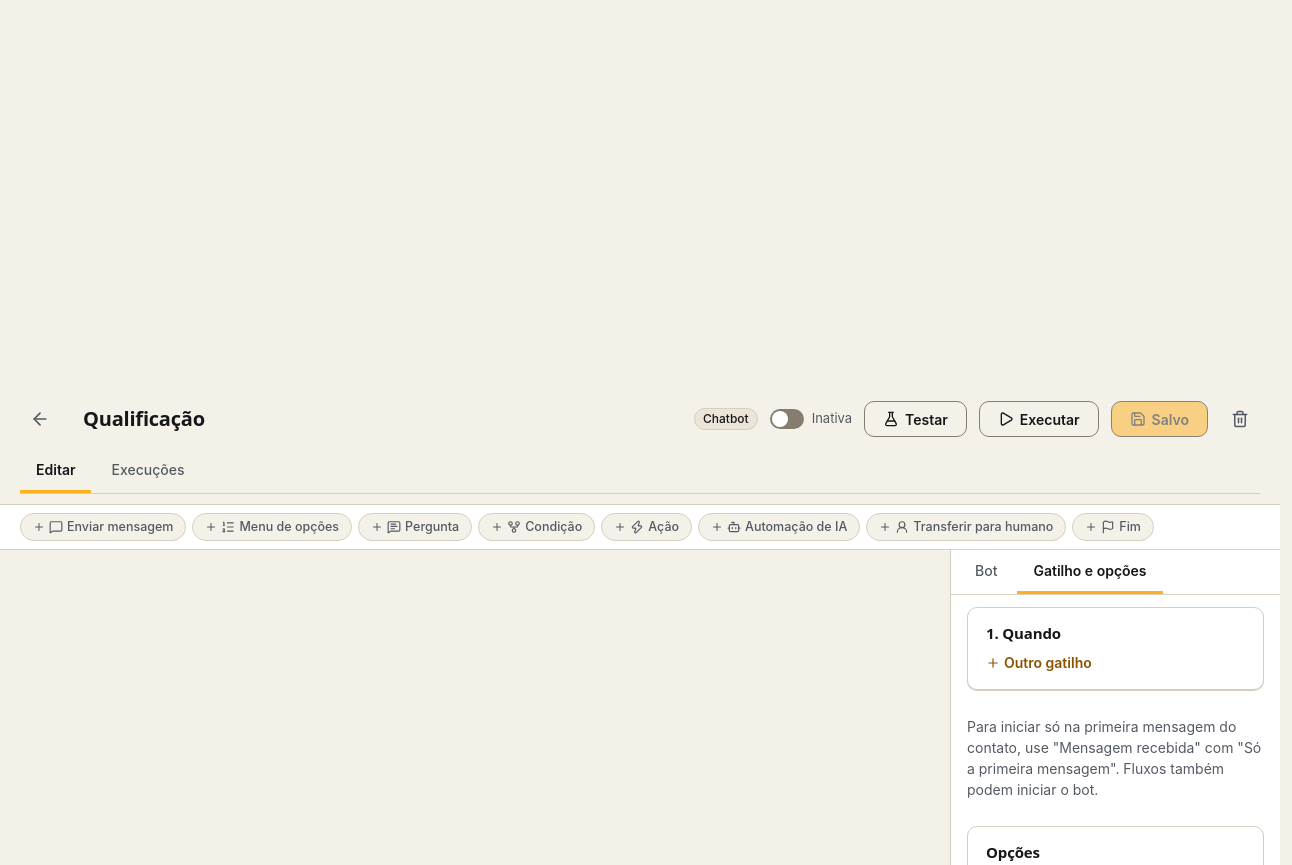
EditorChatbot › chat simulado: conversa com o bot, mostra variáveis e o nó atual
(page scrolled)
Click the button "Testar" at coordinates (915, 419), box [864, 401, 967, 437]
(page scrolled)
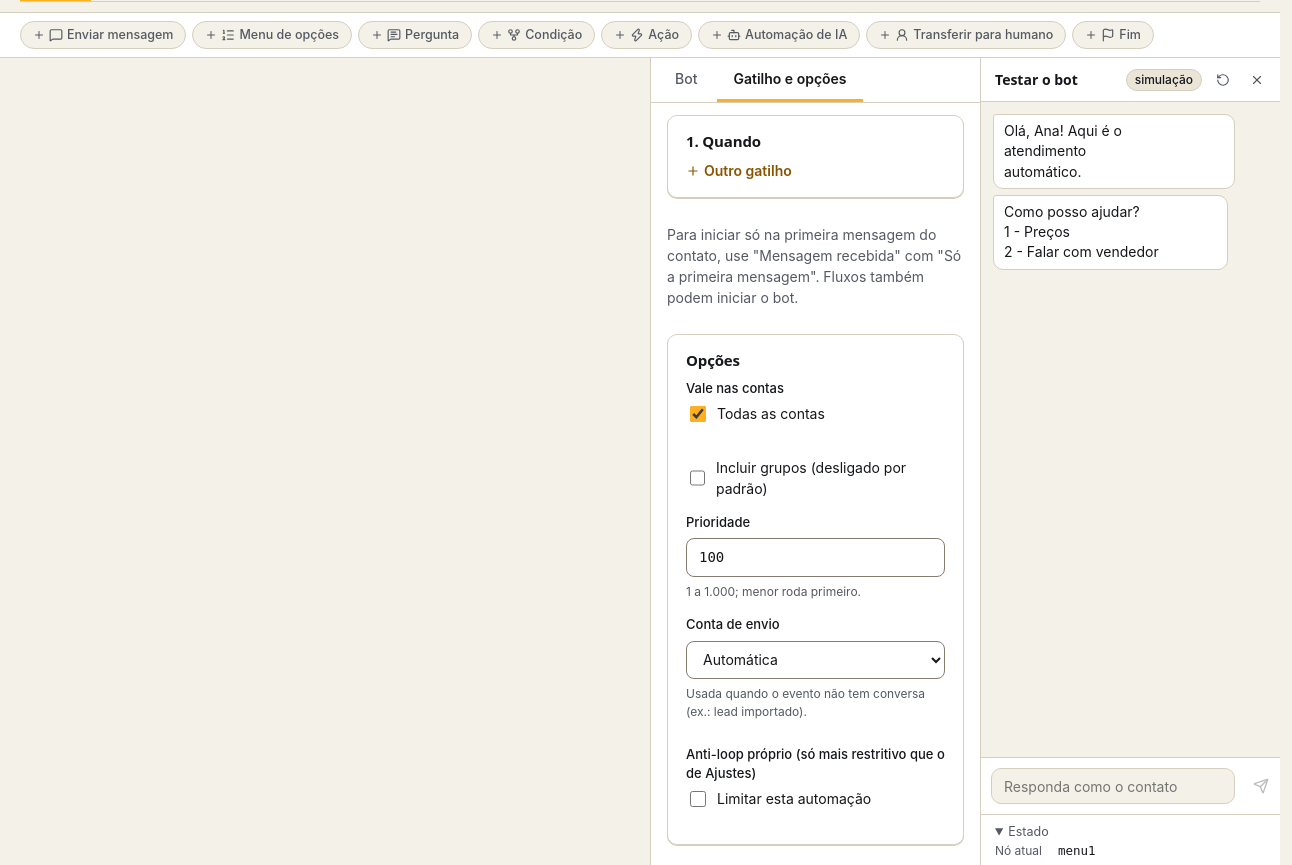
Expected: the text "Olá, Ana! Aqui é o atendimento automático." is shown, [1004, 122, 1126, 180]
Type "1" into the field named "Mensagem do contato" at coordinates (1113, 786), box [991, 768, 1235, 804]
Then press Enter
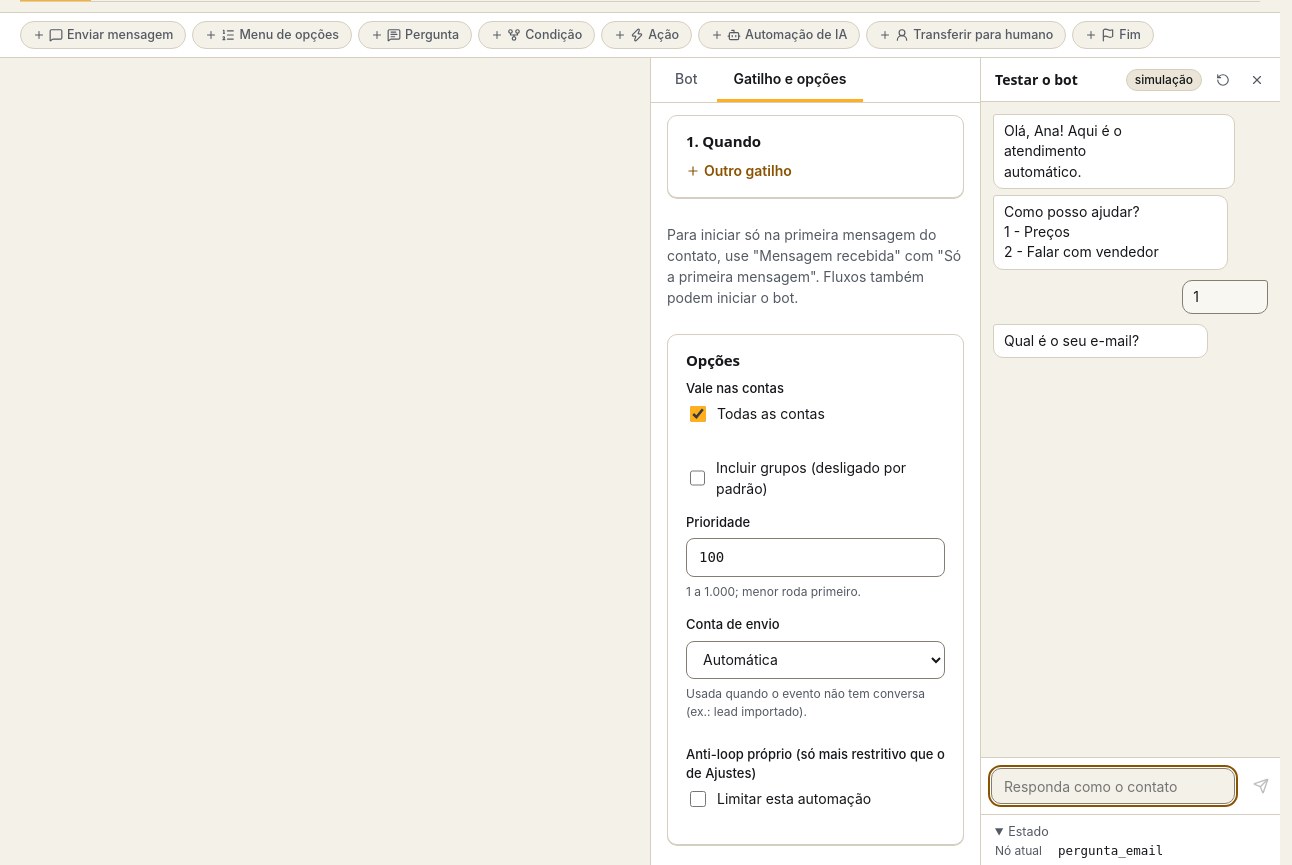
Expected: the text "Qual é o seu e-mail?" is shown, [1004, 332, 1139, 349]
Type "ana@exemplo.com" into the field with placeholder "Responda como o contato" at coordinates (1113, 786), box [991, 768, 1235, 804]
Then press Enter
(page scrolled)
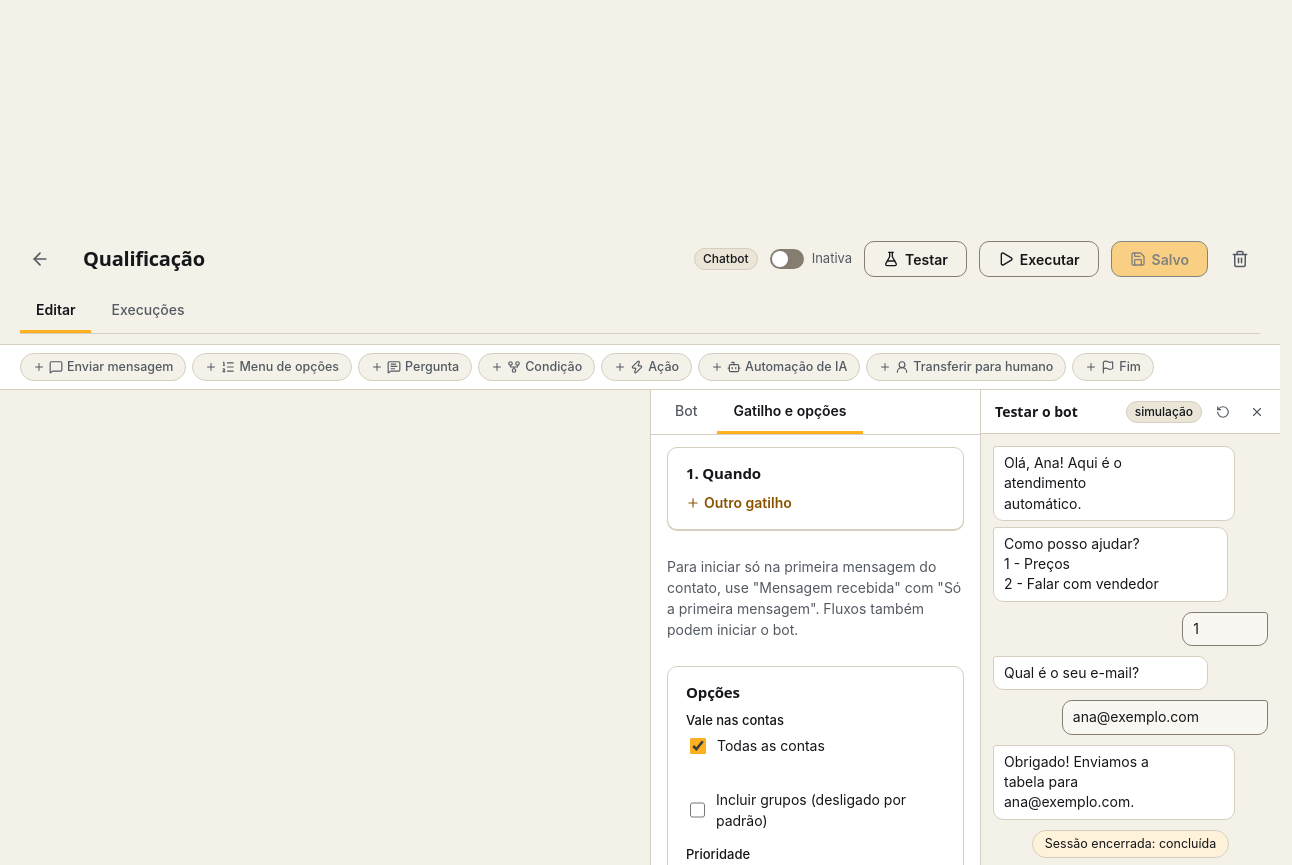
Expected: the text "Obrigado! Enviamos a tabela para ana@exemplo.com." is shown, [1004, 753, 1153, 810]
Expected: the text "Sessão encerrada: concluída" is shown, [1045, 836, 1216, 851]
